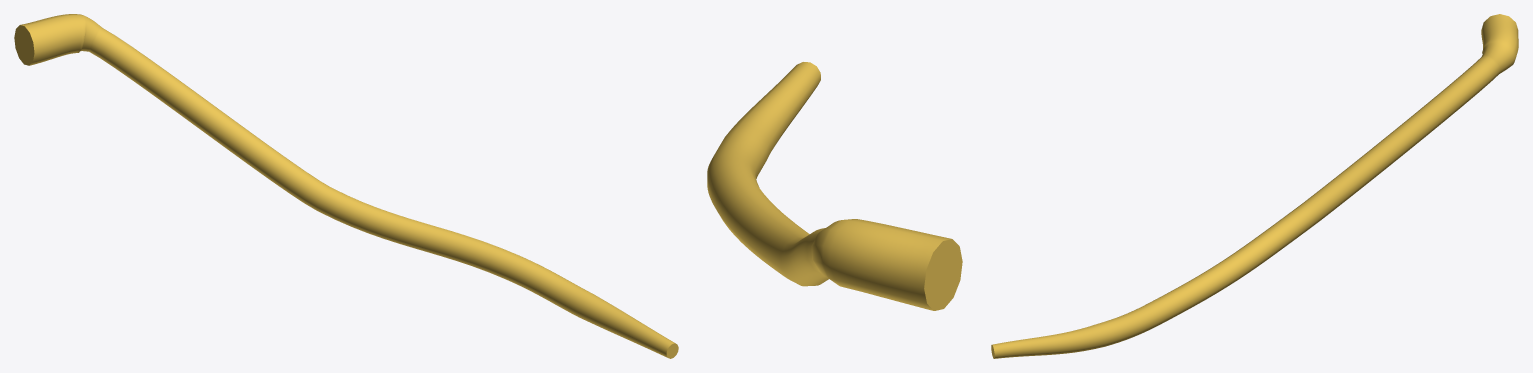
The model's file is Optic_nerve_II_left.glb.
The picture shows the model from 3 angles, left to right: view 1: azimuth 30°, elevation 25°; view 2: azimuth 150°, elevation 25°; view 3: azimuth 270°, elevation 25°; orthographic projection. The views are drawn at different scales.
Visible parts, largest first — view 1: Optic_nerve_(II).l_BezierCurve.494; view 2: Optic_nerve_(II).l_BezierCurve.494; view 3: Optic_nerve_(II).l_BezierCurve.494.
Boxes of the visible parts, box(x1,y1,x2,y2) form: Optic_nerve_(II).l_BezierCurve.494: box(14, 14, 678, 358); Optic_nerve_(II).l_BezierCurve.494: box(707, 62, 962, 310); Optic_nerve_(II).l_BezierCurve.494: box(991, 14, 1518, 358).
Bounding box in the file's own units: 0.0305 × 0.0167 × 0.0425.
